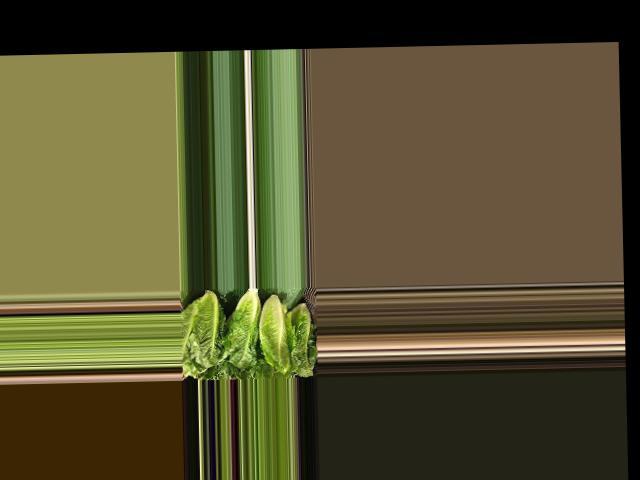lettuce: (288, 305, 312, 377)
